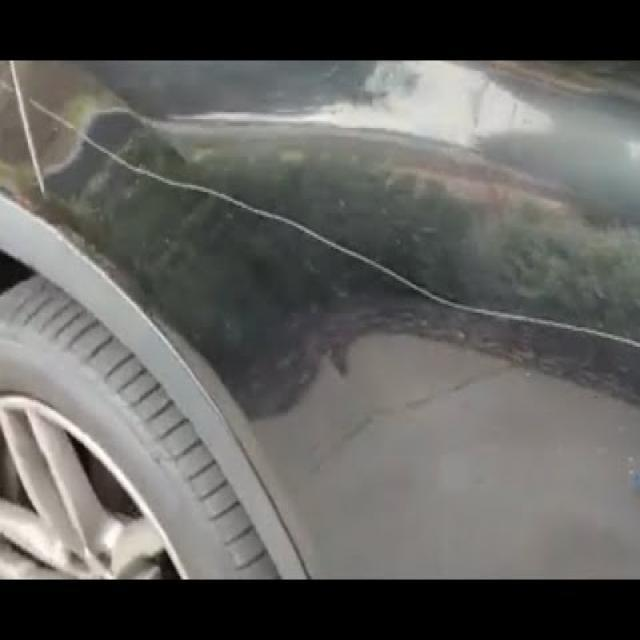paint-trace: (5, 81, 640, 445)
